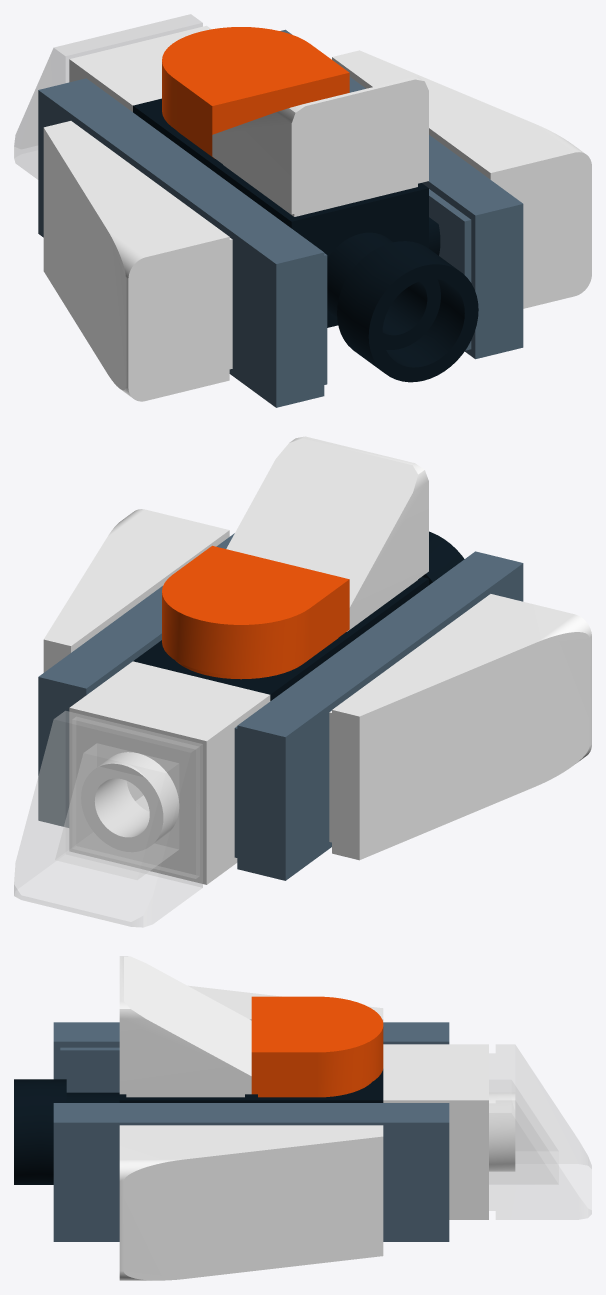
File: LegoSpaceship.glb
3 views of the same model, one above another, from view 1: azimuth 30°, elevation 25°; view 2: azimuth 150°, elevation 25°; view 3: azimuth 270°, elevation 25° (orthographic). The views are drawn at different scales.
Parts seen in each view (by area): view 1: LegoSpaceship; view 2: LegoSpaceship; view 3: LegoSpaceship.
Boxes of the visible parts, box(x1,y1,x2,y2) form: LegoSpaceship: box(14, 14, 591, 407); LegoSpaceship: box(14, 436, 591, 927); LegoSpaceship: box(14, 956, 591, 1280).
Size of the model in its own units: 67.5 by 35.6 by 87.6.
